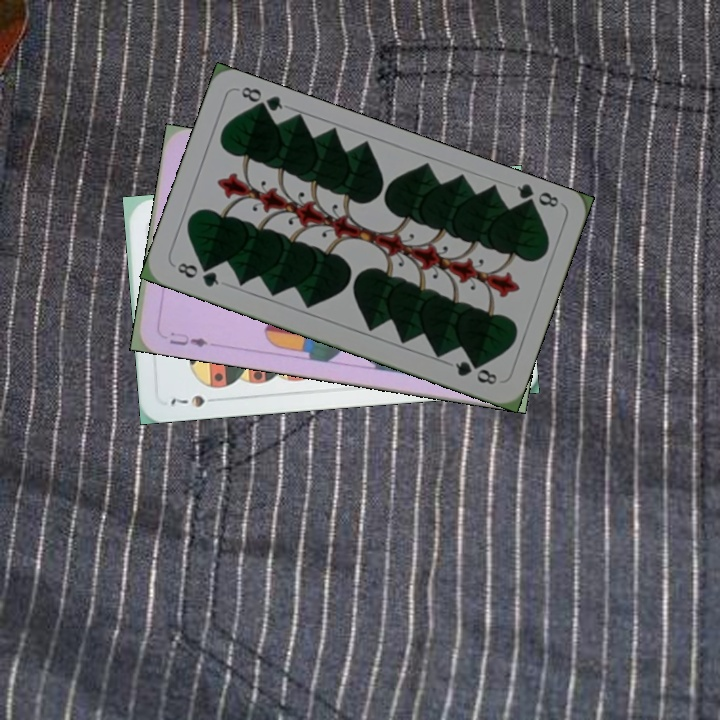EU: (165, 327, 210, 350)
G8: (512, 180, 562, 213), (173, 258, 222, 290)
S7: (166, 391, 223, 410)
